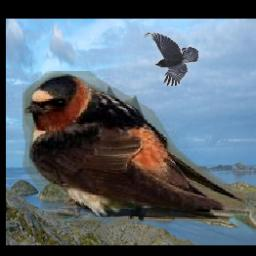Crow: (144, 33, 199, 87)
Swallow: (22, 71, 245, 221)
